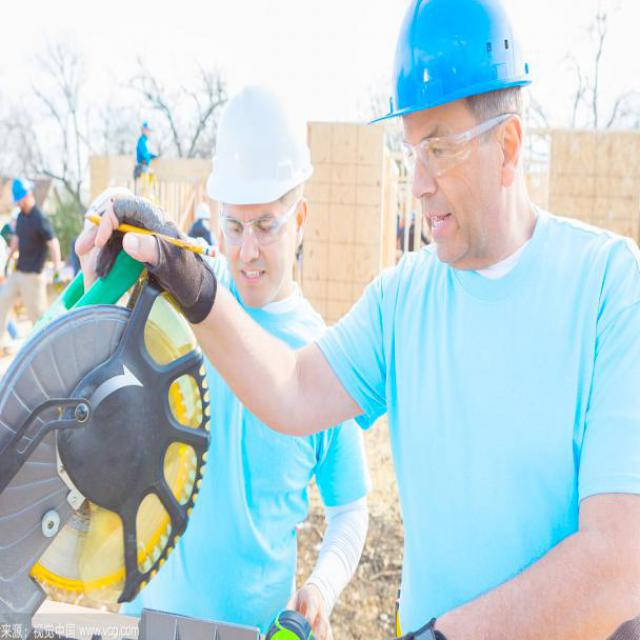gloves: (70, 195, 206, 323)
helmet: (382, 0, 540, 279), (192, 75, 312, 303)
